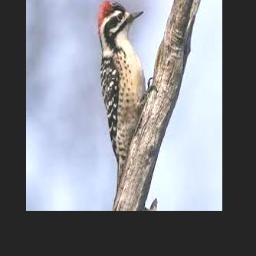Woodpecker: (96, 0, 157, 189)
